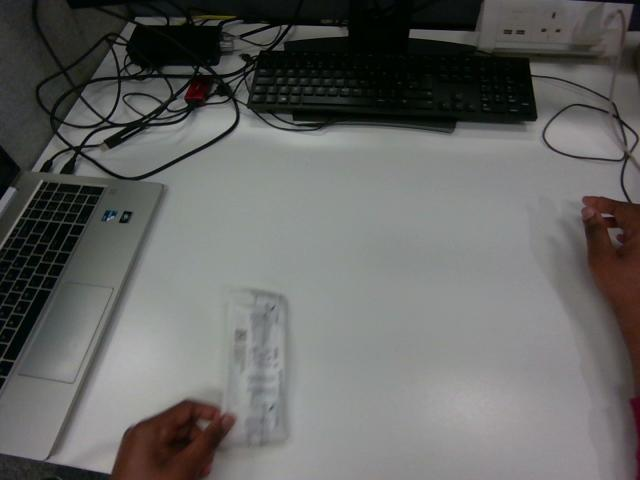syringe: (223, 289, 287, 445)
